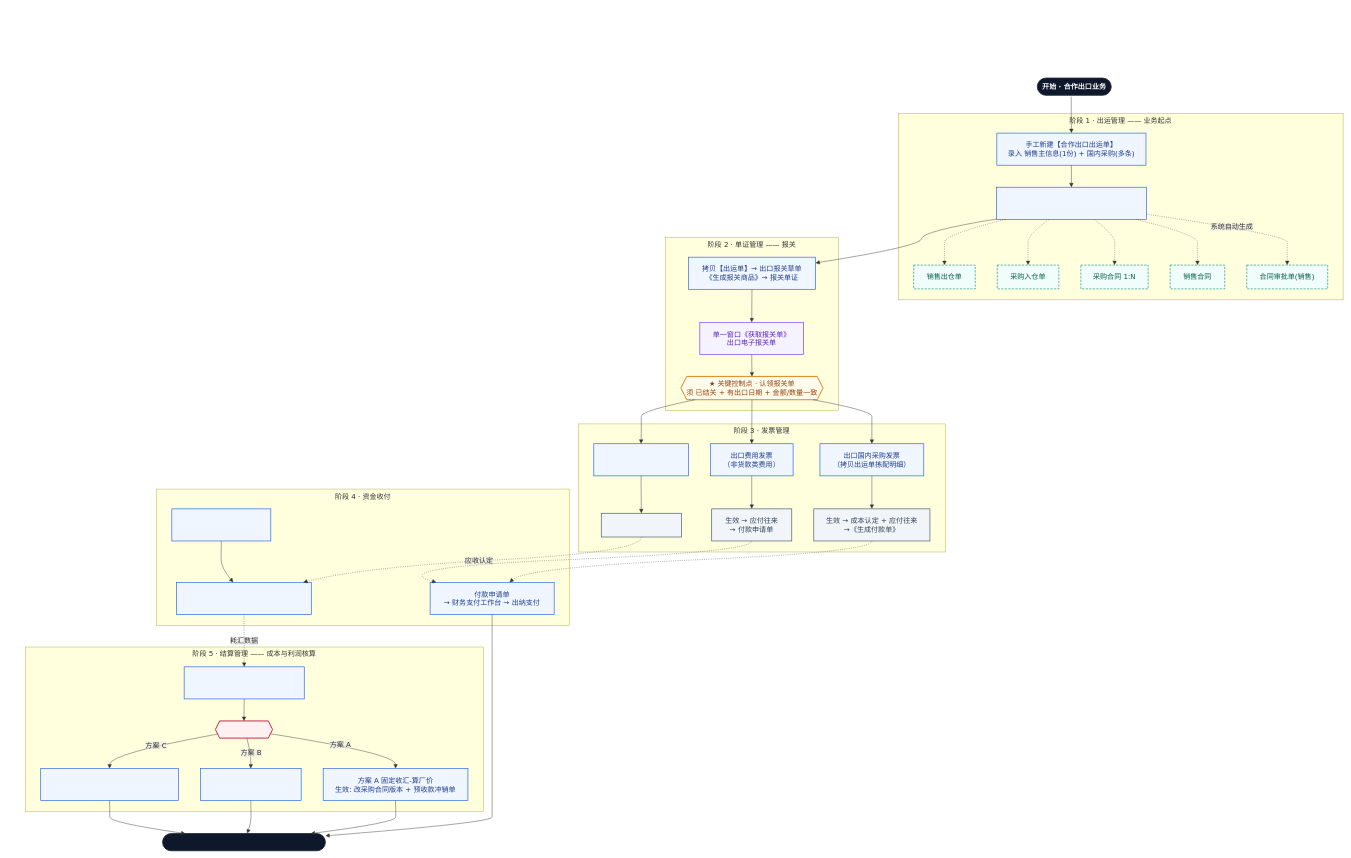
This 1351x858 diagram has some shape labels left out. Each missing label, with the box of its shape:
《提交》生效 出运单:审批单:销合同:采合同 = 1:1:1:N: (996, 187, 1147, 219)
全流程闭环 · 单证 / 发票 / 资金 / 结算 全部落地: (162, 833, 326, 851)
出口销售发票 ⚠ 前置:须认领报关单: (593, 443, 689, 476)
境外收款登记 → 自动生成收款认领单: (171, 508, 271, 541)
境外收款认领 拆分认定到 合同/结算单/销售发票: (176, 582, 311, 615)
拷贝【出运单】→ 出口结算单 ⚠ 前置:须认领报关单: (184, 666, 304, 699)
方案 B 固定厂价-算耗汇 生效: 系统无后续处理: (200, 768, 301, 801)
方案 C 固定厂价-固定收汇 生效: 结算盈余往来 + 预收款冲销单: (40, 768, 179, 801)
生效 → 应收往来: (601, 513, 681, 537)
选择结算方案: (215, 720, 273, 738)
